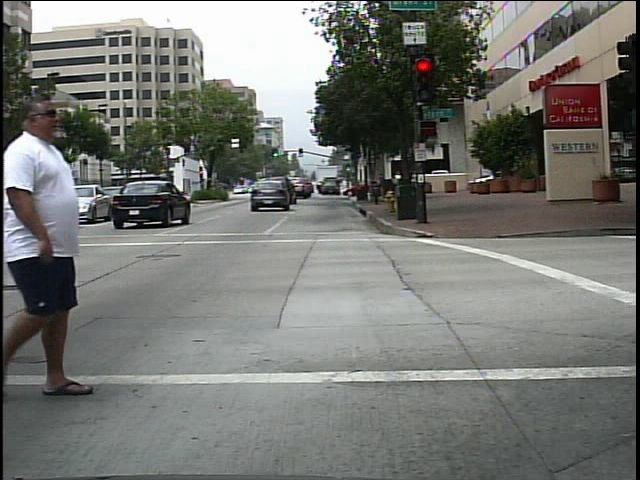person: (4, 90, 125, 401)
